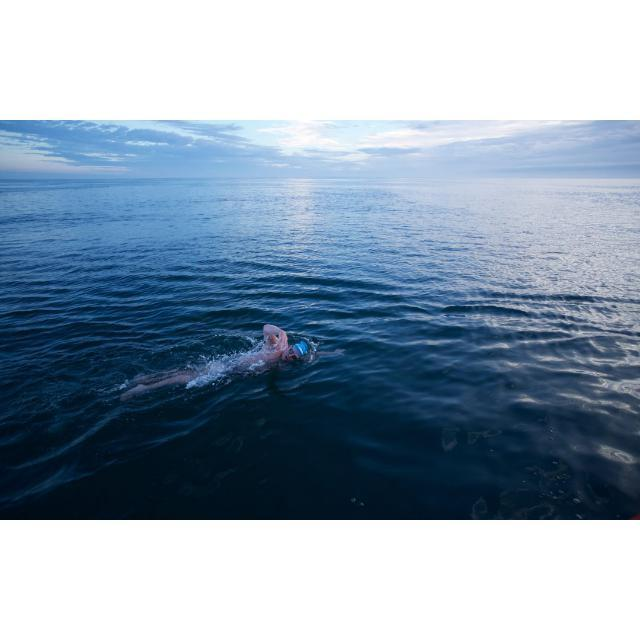human: (119, 320, 344, 405)
